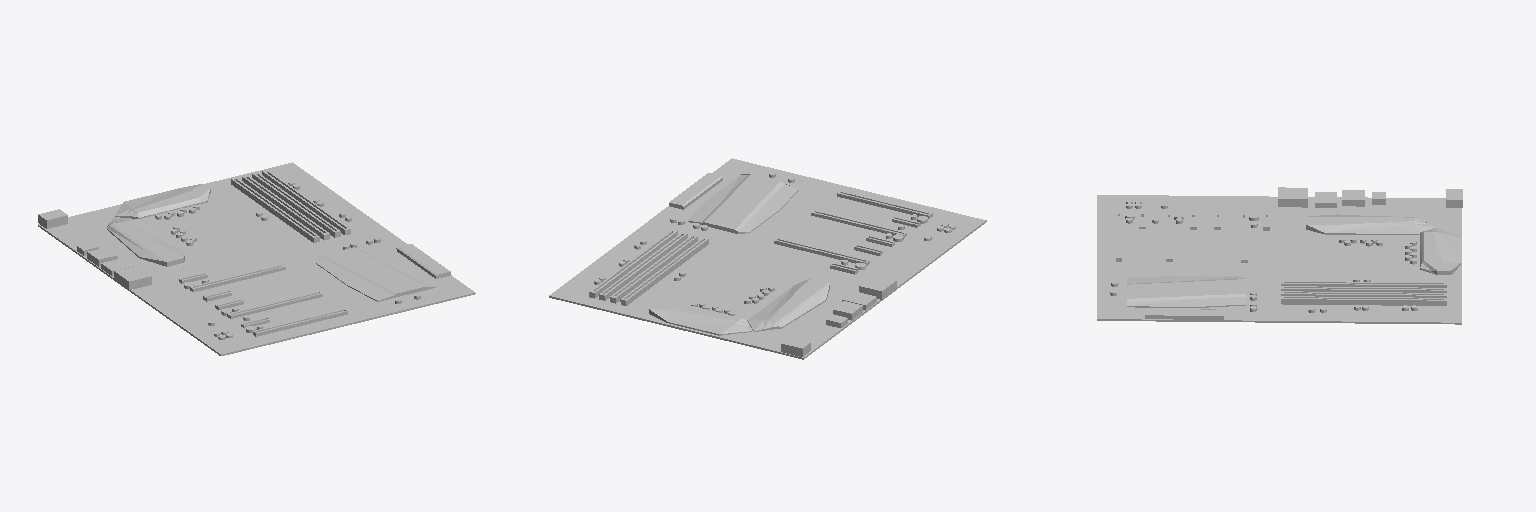
File: motherboard.obj
The picture shows the model from 3 angles: view 1: azimuth 30°, elevation 25°; view 2: azimuth 150°, elevation 25°; view 3: azimuth 270°, elevation 25°; orthographic projection.
Bounding box in the file's own units: 2.43 × 0.1124 × 3.02.